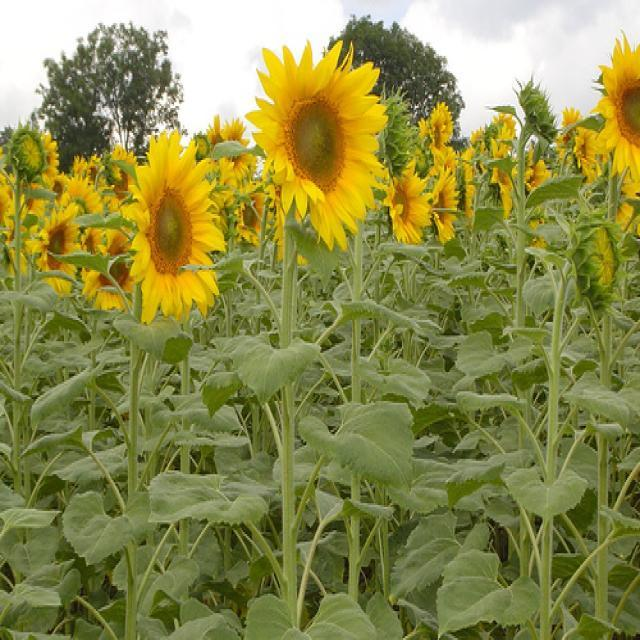sunflower: (244, 40, 388, 253), (128, 132, 227, 326), (589, 30, 640, 183), (26, 202, 80, 294), (82, 227, 134, 318), (383, 156, 432, 244), (103, 146, 139, 213), (488, 138, 518, 218), (220, 112, 250, 181), (0, 174, 46, 217), (58, 174, 105, 216), (432, 166, 458, 241), (554, 107, 586, 160), (235, 192, 266, 246), (575, 127, 601, 182), (522, 149, 551, 195), (458, 149, 476, 217), (42, 134, 59, 187), (429, 109, 448, 153), (82, 225, 106, 255), (437, 102, 453, 136), (205, 114, 223, 144), (48, 172, 69, 197), (87, 154, 102, 184), (492, 112, 516, 130), (0, 190, 12, 222), (469, 126, 487, 144), (72, 154, 88, 172), (500, 123, 516, 139), (418, 118, 429, 136)
